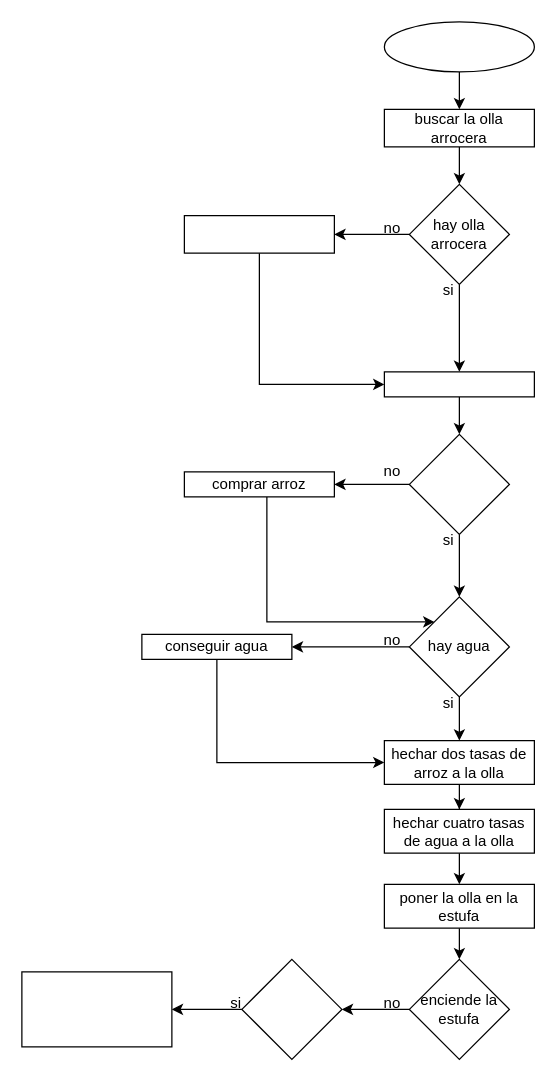
Image size: 556x1081. Some labels were removed from this diagram. Here are the shapes that lost their labels. From the top down, the box of each, then its label:
(383, 21, 534, 72): Inicio
(183, 214, 334, 253): comprar una olla arrocera
(383, 371, 534, 397): bucar el arroz
(408, 433, 509, 534): hay arroz
(241, 958, 342, 1059): el recibo del gas se pago
